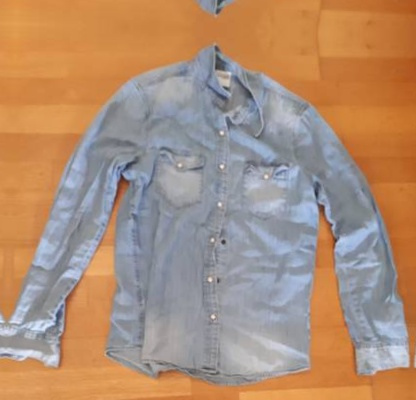Blazer: (4, 46, 413, 396), (0, 34, 15, 384), (16, 0, 416, 13), (0, 0, 27, 0)
